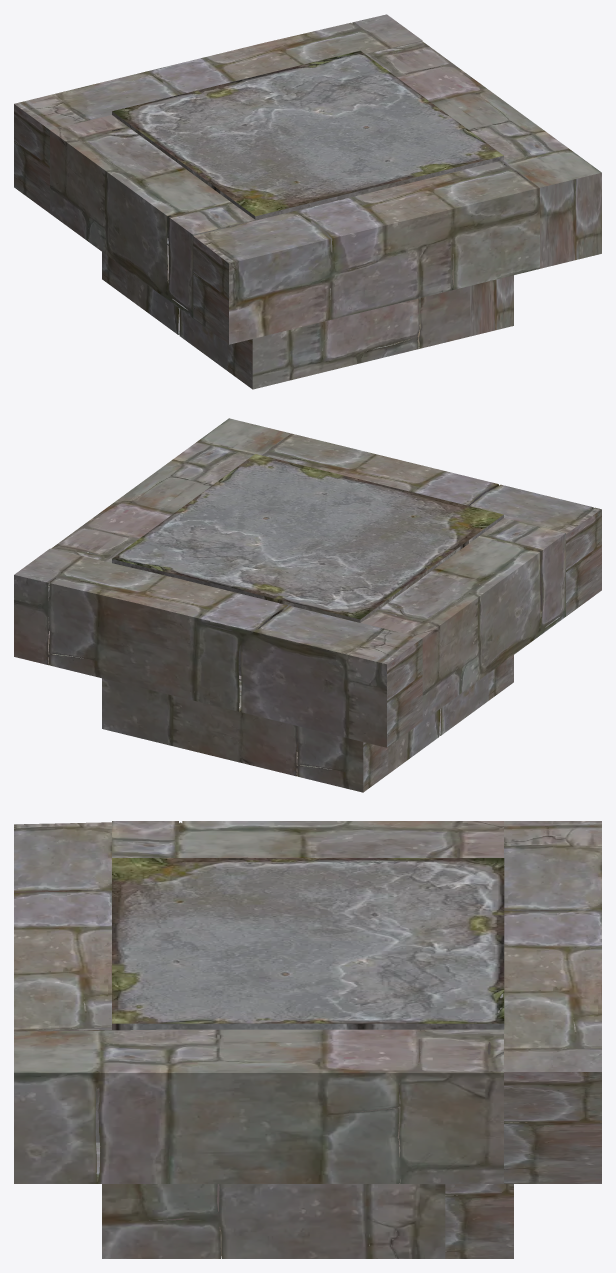
3 renders of one model, top to bottom at view 1: azimuth 30°, elevation 25°; view 2: azimuth 150°, elevation 25°; view 3: azimuth 270°, elevation 25°, orthographic. The views are drawn at different scales.
Parts seen in each view (by area): view 1: SM_BB_T3_Floor_Small_LOD0; view 2: SM_BB_T3_Floor_Small_LOD0; view 3: SM_BB_T3_Floor_Small_LOD0.
Part boxes in pixels (left/top/right/bottom): SM_BB_T3_Floor_Small_LOD0: left=14, top=14, right=601, bottom=389; SM_BB_T3_Floor_Small_LOD0: left=14, top=418, right=601, bottom=792; SM_BB_T3_Floor_Small_LOD0: left=14, top=821, right=601, bottom=1258.
Size of the model in its own units: 1.13 by 0.4874 by 1.12.
2 materials, 2 textured.
